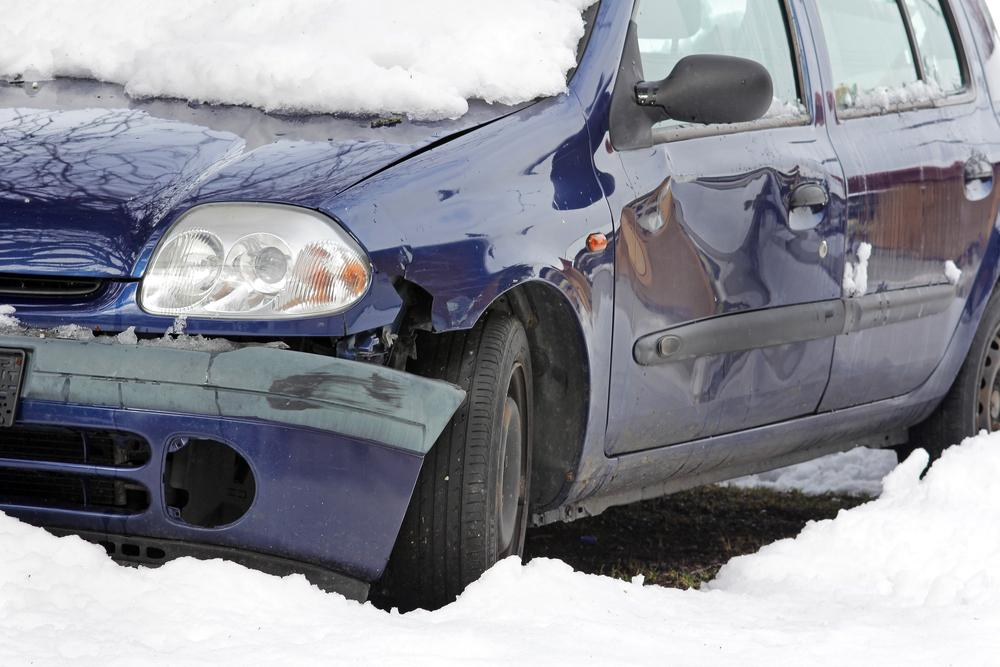crack: (391, 248, 442, 330)
dent: (624, 167, 776, 330), (675, 350, 747, 403), (760, 341, 807, 377)
scratch: (256, 363, 406, 416)
